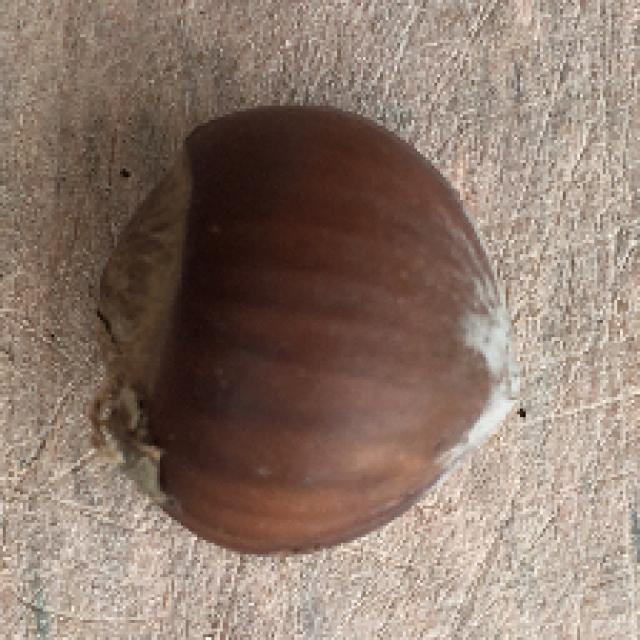damagedHazelnut: (79, 108, 530, 564)
